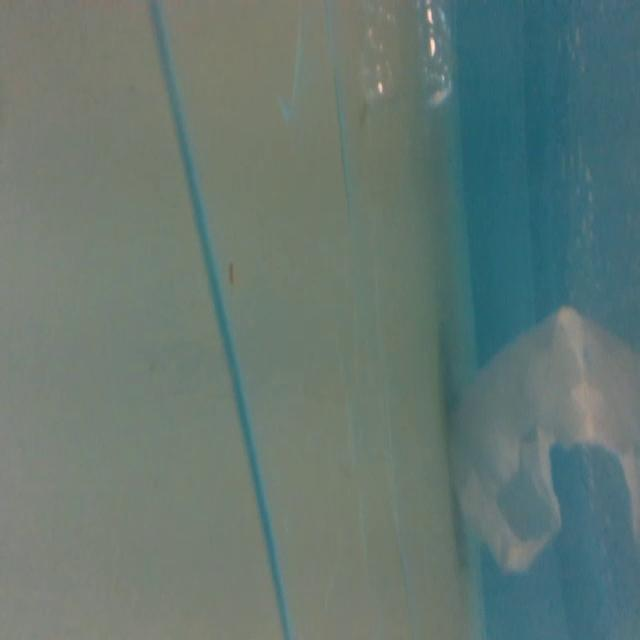plastic bags: (442, 294, 640, 584)
